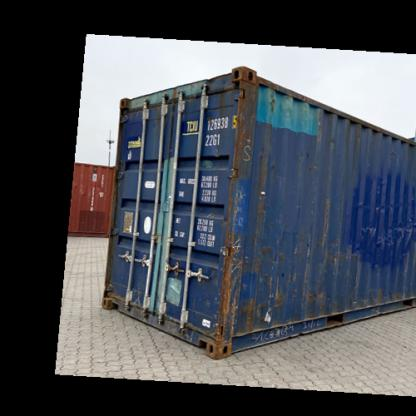Damage: (218, 226, 256, 338), (360, 222, 413, 253), (344, 283, 410, 306), (265, 251, 288, 308), (318, 192, 336, 257), (354, 196, 409, 217), (296, 286, 335, 314), (262, 85, 280, 124), (238, 125, 254, 166), (323, 132, 338, 148)
